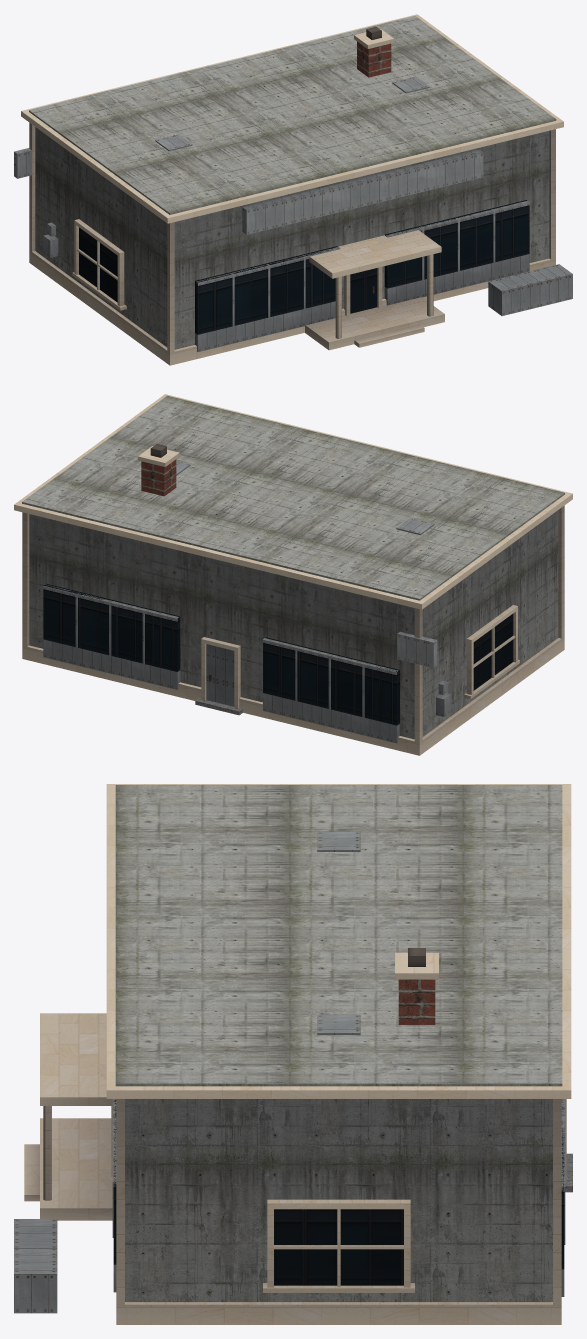
The model's file is spin-cycle-laundromat_lod0.gltf.
3 views of the same model, one above another, from view 1: azimuth 30°, elevation 25°; view 2: azimuth 150°, elevation 25°; view 3: azimuth 270°, elevation 25° (orthographic). The views are drawn at different scales.
Visible parts, largest first — view 1: spin-cycle-laundromat__parapet, spin-cycle-laundromat_main, spin-cycle-laundromat__v4_stone_detail, spin-cycle-laundromat_fen_07-glass-curtain-blue_1_t, spin-cycle-laundromat_fen_14-steel-panel_0, spin-cycle-laundromat__sign_band, spin-cycle-laundromat__cart_corral, spin-cycle-laundromat_fen_04-limestone_2, spin-cycle-laundromat__v4_brick_detail; view 2: spin-cycle-laundromat__parapet, spin-cycle-laundromat_main, spin-cycle-laundromat__v4_stone_detail, spin-cycle-laundromat_fen_07-glass-curtain-blue_1_t, spin-cycle-laundromat_fen_14-steel-panel_0, spin-cycle-laundromat_fen_04-limestone_2, spin-cycle-laundromat__v4_brick_detail; view 3: spin-cycle-laundromat__parapet, spin-cycle-laundromat_main, spin-cycle-laundromat__v4_stone_detail, spin-cycle-laundromat_fen_07-glass-curtain-blue_1_t, spin-cycle-laundromat_fen_04-limestone_2, spin-cycle-laundromat__cart_corral, spin-cycle-laundromat__v4_brick_detail, spin-cycle-laundromat_fen_14-steel-panel_0, spin-cycle-laundromat__vent_a, spin-cycle-laundromat__vent_b.
Boxes of the visible parts, x1,y1,x2,y2 form: spin-cycle-laundromat__parapet: [29, 16, 556, 214]; spin-cycle-laundromat_main: [35, 127, 549, 349]; spin-cycle-laundromat__v4_stone_detail: [21, 14, 563, 365]; spin-cycle-laundromat_fen_07-glass-curtain-blue_1_t: [79, 200, 529, 334]; spin-cycle-laundromat_fen_14-steel-panel_0: [14, 148, 529, 351]; spin-cycle-laundromat__sign_band: [242, 149, 483, 234]; spin-cycle-laundromat__cart_corral: [488, 264, 572, 315]; spin-cycle-laundromat_fen_04-limestone_2: [72, 219, 382, 315]; spin-cycle-laundromat__v4_brick_detail: [357, 41, 391, 77]; spin-cycle-laundromat__parapet: [22, 395, 564, 600]; spin-cycle-laundromat_main: [29, 510, 558, 739]; spin-cycle-laundromat__v4_stone_detail: [14, 394, 572, 755]; spin-cycle-laundromat_fen_07-glass-curtain-blue_1_t: [43, 583, 513, 725]; spin-cycle-laundromat_fen_14-steel-panel_0: [43, 584, 451, 743]; spin-cycle-laundromat_fen_04-limestone_2: [201, 605, 519, 708]; spin-cycle-laundromat__v4_brick_detail: [141, 459, 176, 496]; spin-cycle-laundromat__parapet: [115, 785, 562, 1086]; spin-cycle-laundromat_main: [125, 1099, 552, 1301]; spin-cycle-laundromat__v4_stone_detail: [24, 784, 571, 1324]; spin-cycle-laundromat_fen_07-glass-curtain-blue_1_t: [113, 1099, 564, 1285]; spin-cycle-laundromat_fen_04-limestone_2: [111, 1099, 566, 1292]; spin-cycle-laundromat__cart_corral: [14, 1219, 57, 1313]; spin-cycle-laundromat__v4_brick_detail: [398, 979, 435, 1024]; spin-cycle-laundromat_fen_14-steel-panel_0: [112, 1099, 565, 1296]; spin-cycle-laundromat__vent_a: [317, 831, 360, 851]; spin-cycle-laundromat__vent_b: [317, 1014, 360, 1034].
Size of the model in its own units: 17.11 by 7.79 by 12.9.
